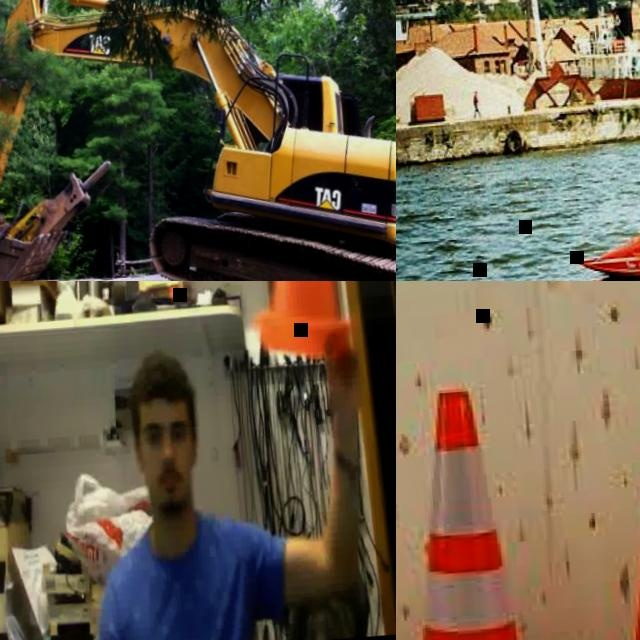NO-Hardhat: (127, 352, 196, 418)
NO-Mask: (148, 467, 193, 512)
NO-Safety Vest: (117, 519, 246, 640), (470, 90, 481, 120), (472, 95, 477, 107)
Person: (73, 334, 378, 640)
Safety Cone: (396, 367, 583, 640), (550, 281, 640, 640), (240, 281, 355, 364)
machinery: (0, 0, 396, 281)
vehicle: (0, 151, 242, 281)
